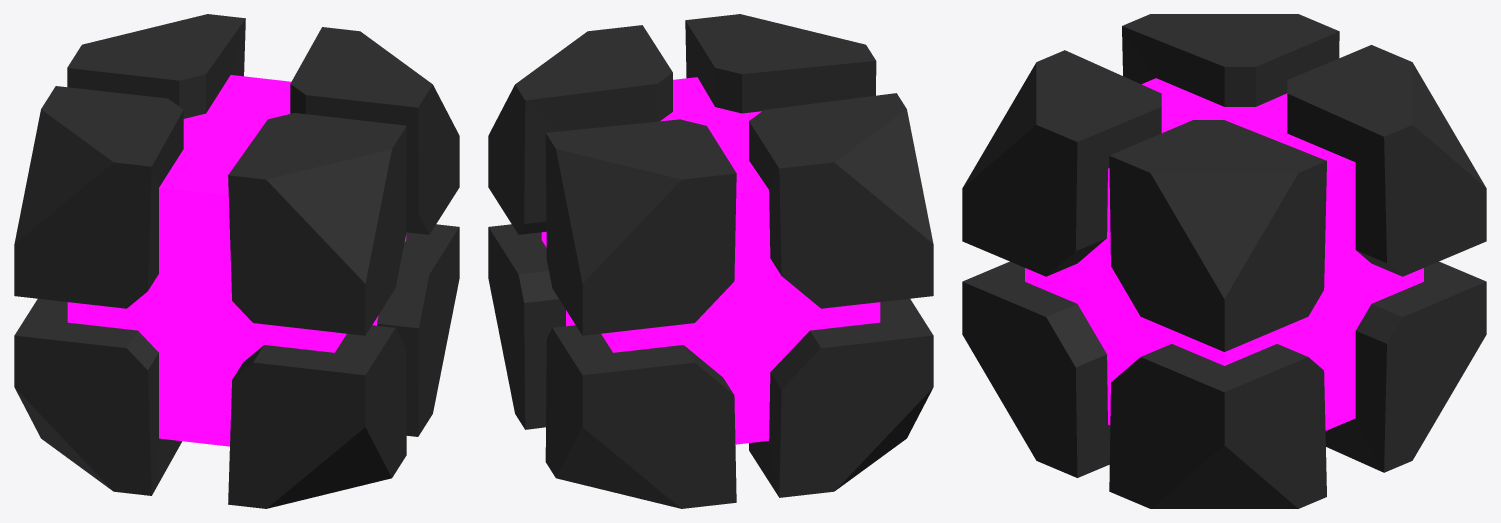
The model's file is stack-electrical-pack.glb.
3 renders of one model, left to right at view 1: azimuth 30°, elevation 25°; view 2: azimuth 150°, elevation 25°; view 3: azimuth 270°, elevation 25°, orthographic. The views are drawn at different scales.
Visible parts, largest first — view 1: Cube.030; view 2: Cube.030; view 3: Cube.030.
Part boxes in pixels (x1,y1,x2,y2): Cube.030: (14,14,459,508); Cube.030: (488,14,933,508); Cube.030: (962,14,1486,508).
Bounding box in the file's own units: 2.5 × 1.76 × 2.5.
Materials: 1 (1 with a texture image).
